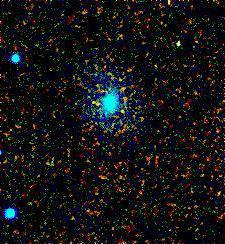star: (106, 96, 136, 126)
